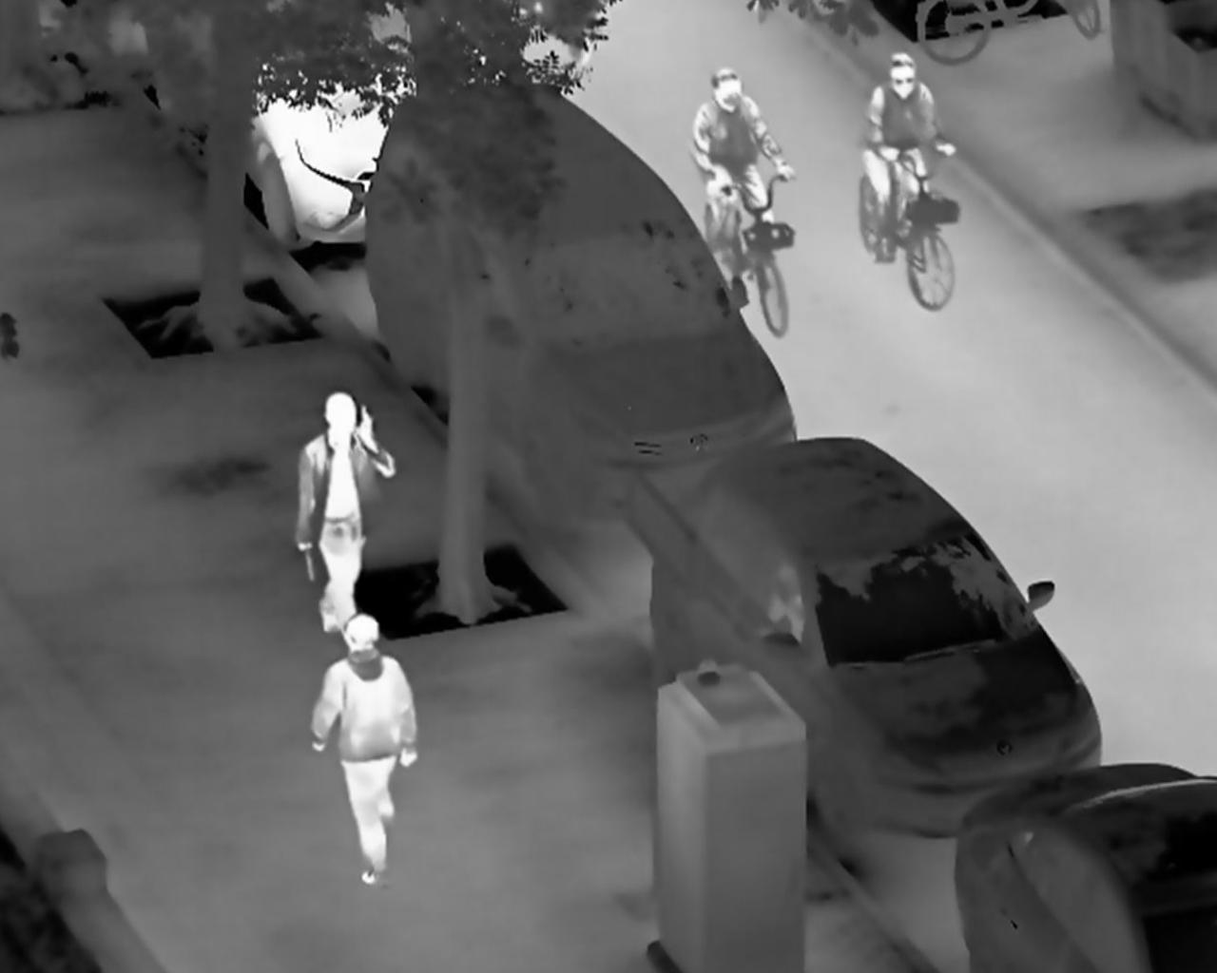person: (305, 613, 418, 887), (295, 391, 399, 638), (690, 67, 796, 264), (860, 49, 959, 247)
